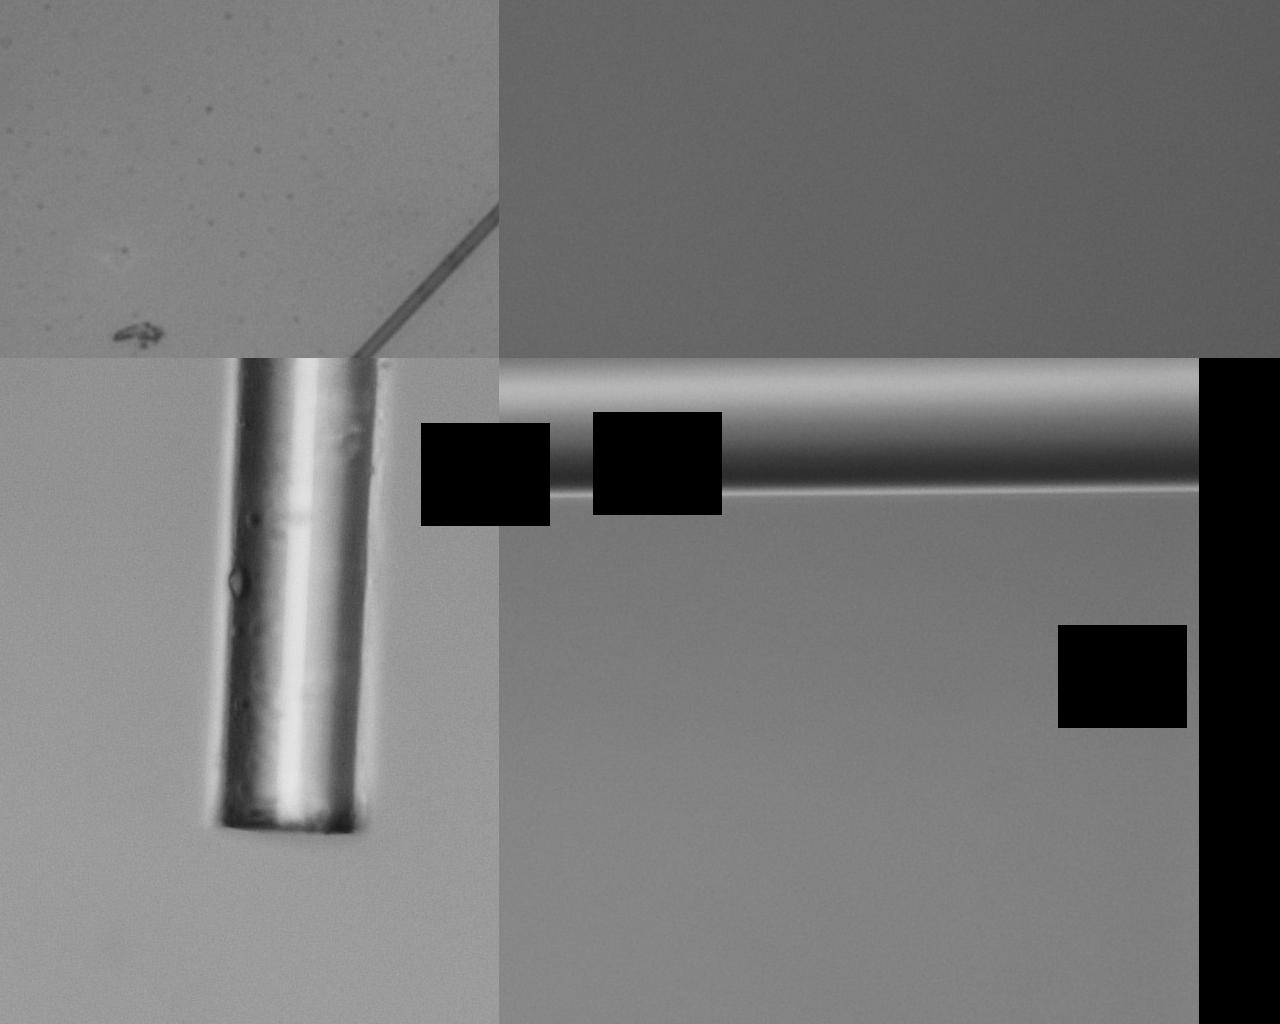fiber: (742, 0, 1266, 328), (742, 501, 1099, 835), (279, 501, 497, 1024)
